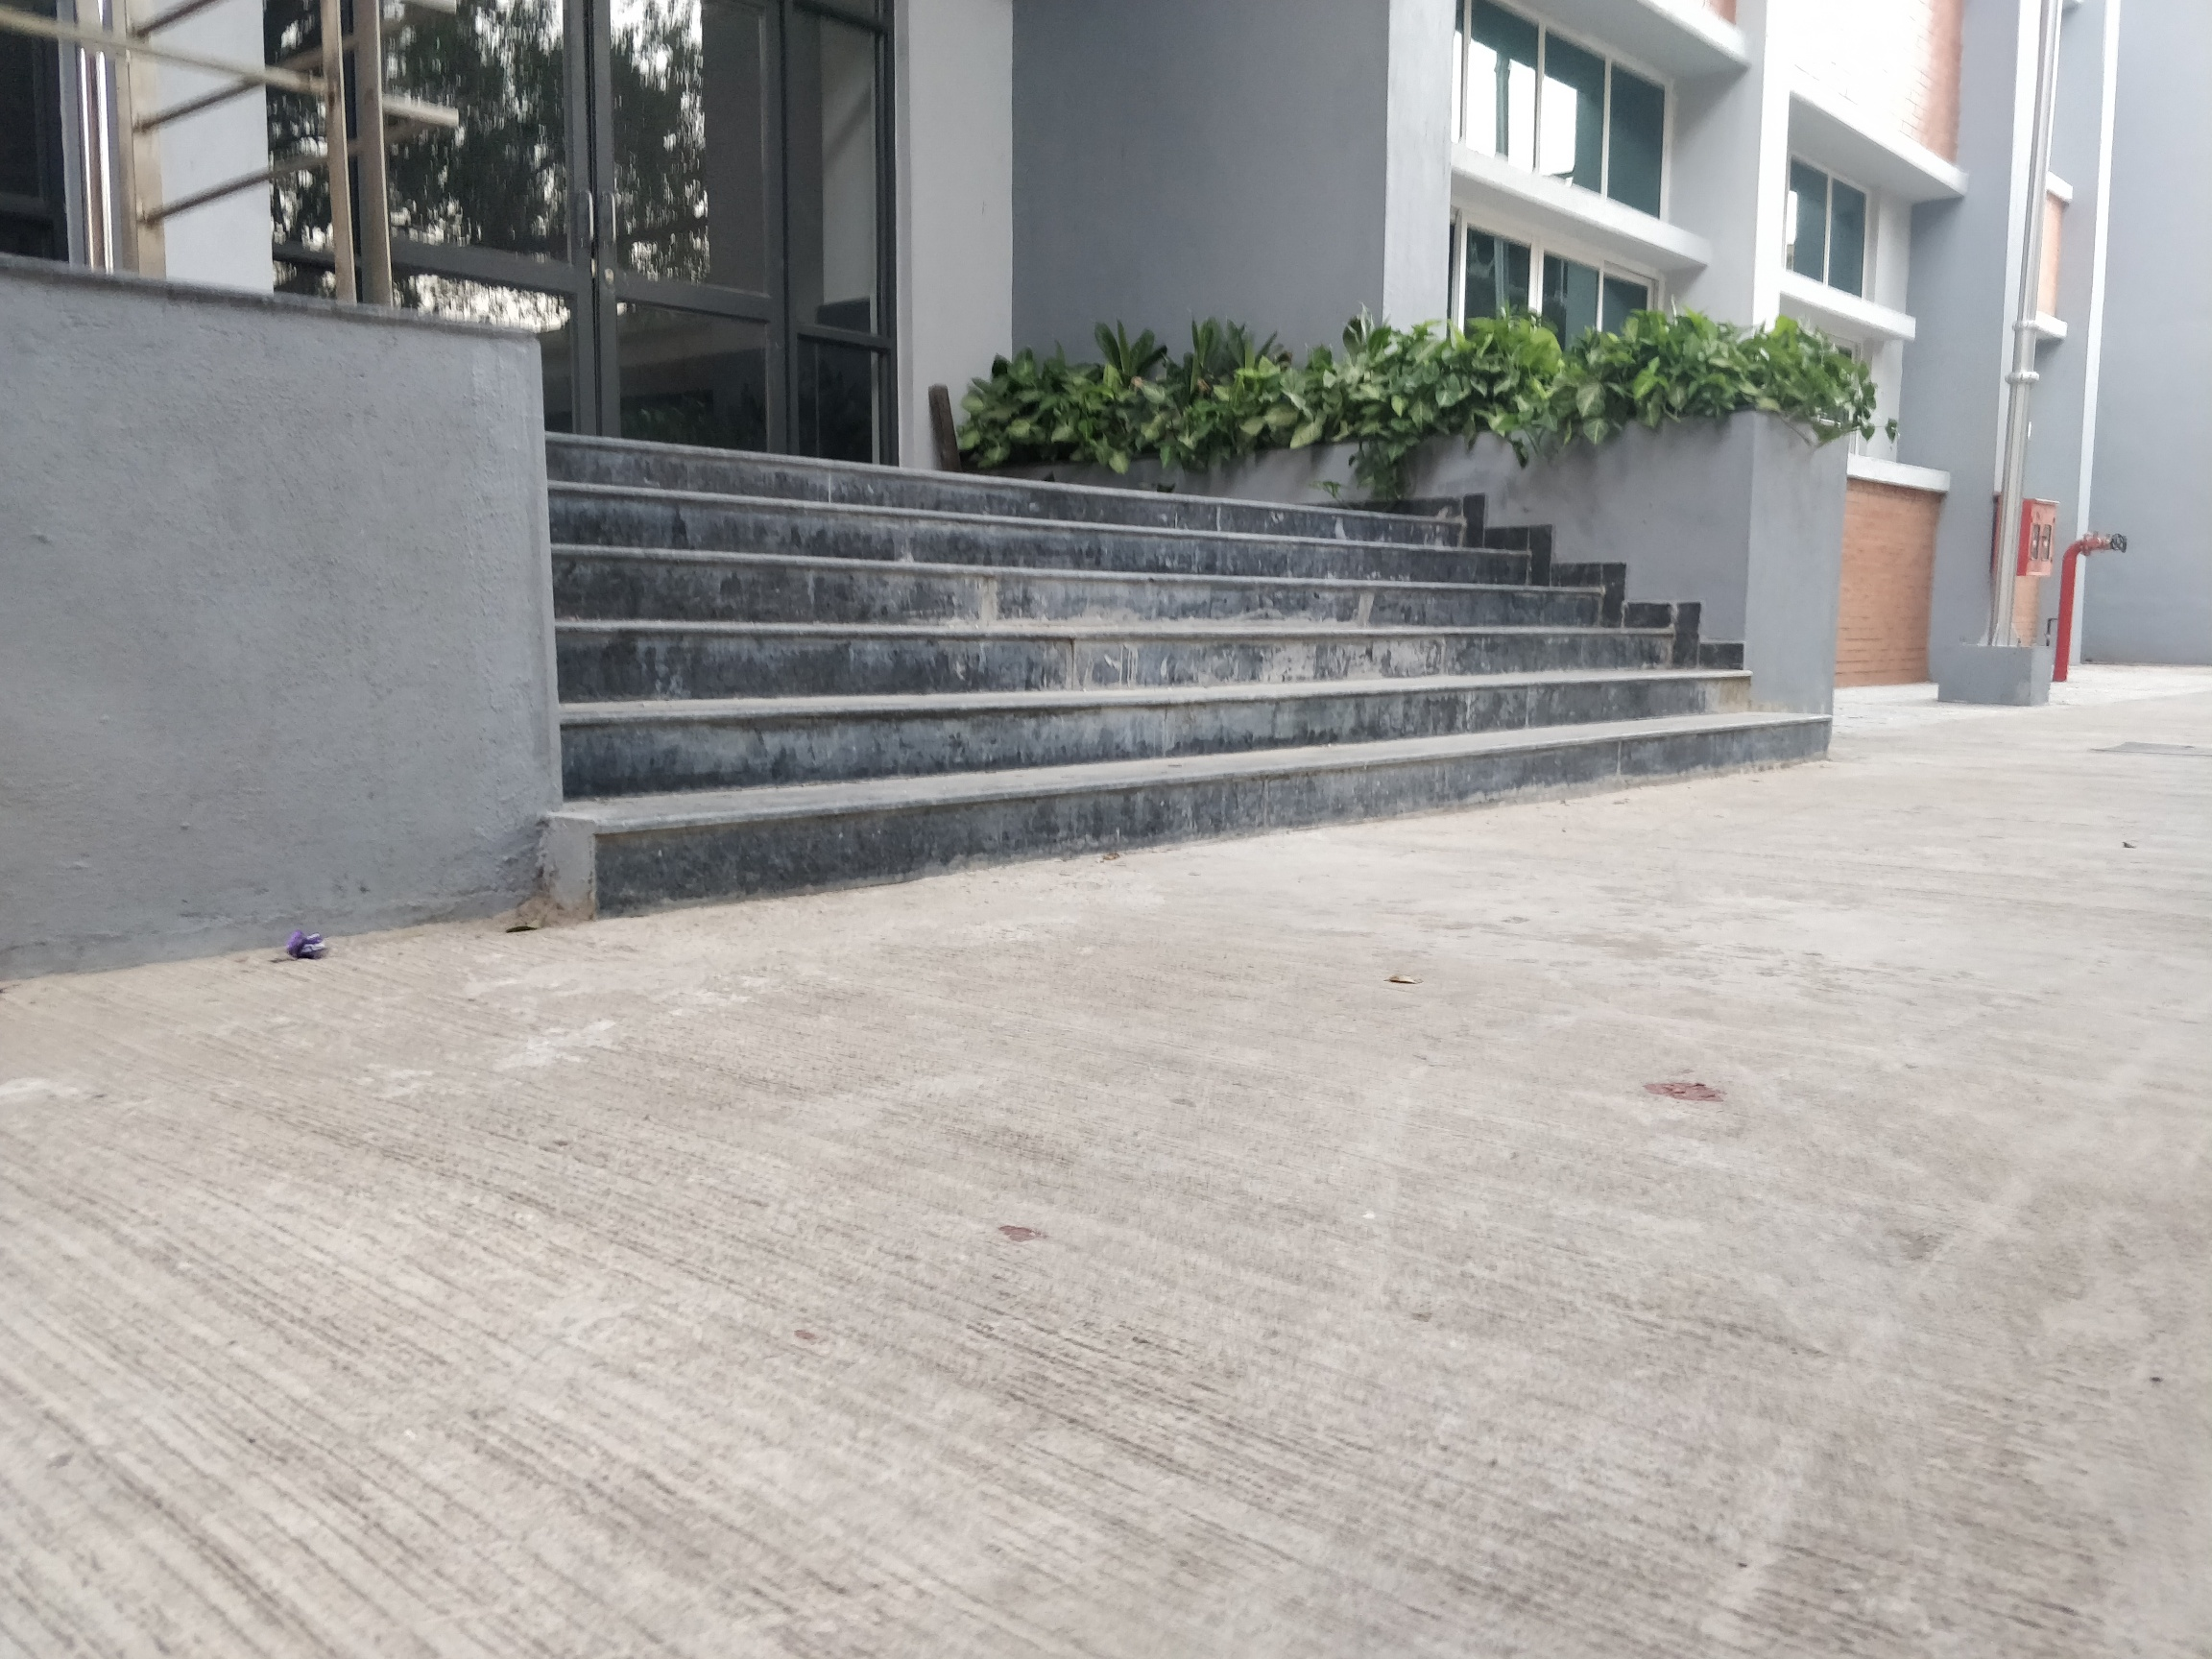stairs_up: (554, 427, 1784, 843)
